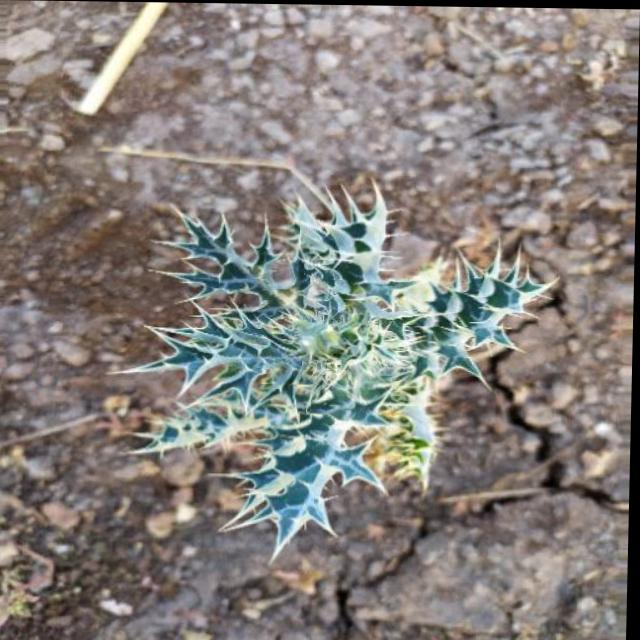weed: (110, 170, 566, 563)
